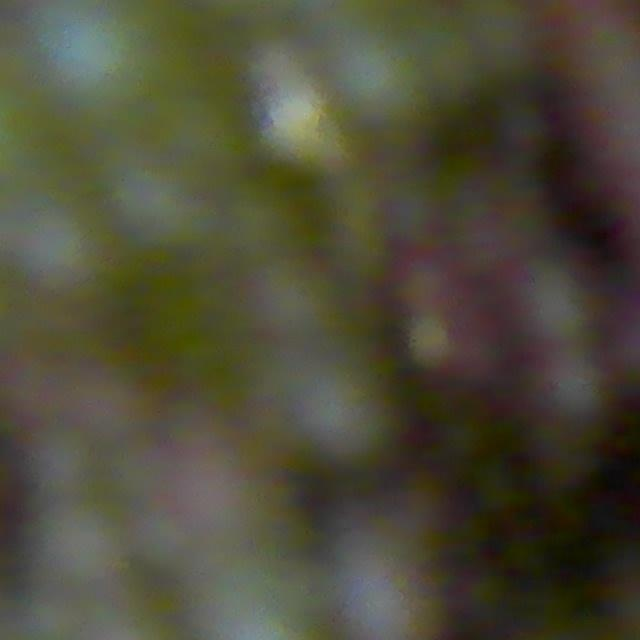SeaGrape: (33, 4, 149, 109), (337, 33, 429, 126), (514, 259, 599, 346), (536, 351, 609, 427)
